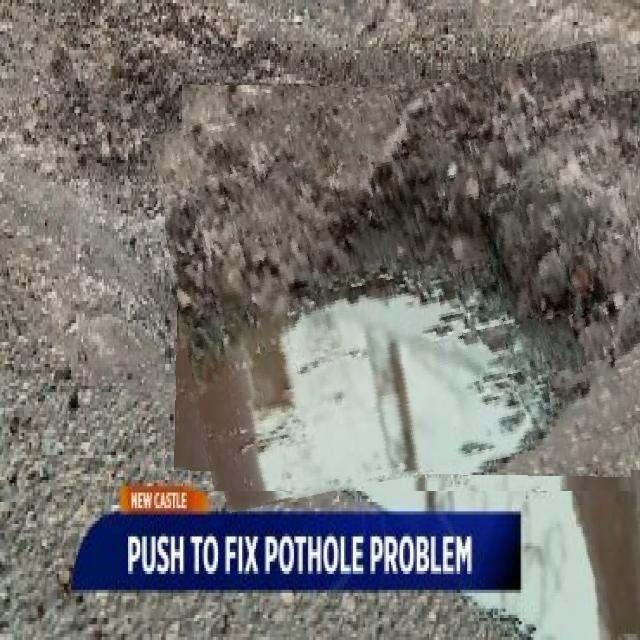Pothole: (165, 62, 640, 491)
